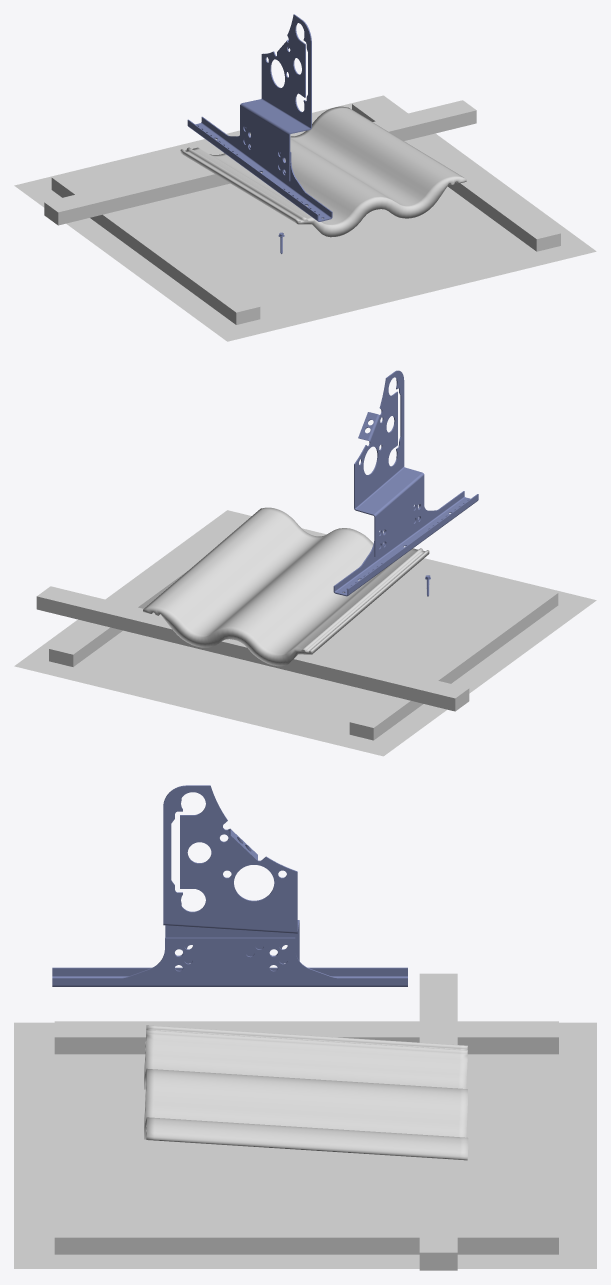
Rendered from Konsol_CWL.glb.
3 renders of one model, top to bottom at view 1: azimuth 30°, elevation 25°; view 2: azimuth 150°, elevation 25°; view 3: azimuth 270°, elevation 25°, orthographic. The views are drawn at different scales.
Parts seen in each view (by area): view 1: Plane, takPanna betong, Läkt 36x48, 420073-1, Läkt 36x48.001, Läkt 36x48.002, 410003-2.008; view 2: Plane, takPanna betong, Läkt 36x48, 420073-1, Läkt 36x48.001, Läkt 36x48.002, 410003-2.008; view 3: Plane, takPanna betong, Läkt 36x48.002, 420073-1, 410003-2.008, Läkt 36x48.001, Läkt 36x48.
Boxes of the visible parts, <box> form: Plane: <box>14,95,596,341</box>; takPanna betong: <box>180,106,466,237</box>; Läkt 36x48: <box>44,100,476,225</box>; 420073-1: <box>240,14,311,181</box>; Läkt 36x48.001: <box>51,171,260,324</box>; Läkt 36x48.002: <box>352,98,560,251</box>; 410003-2.008: <box>187,116,332,221</box>; Plane: <box>14,510,596,756</box>; takPanna betong: <box>143,507,429,666</box>; Läkt 36x48: <box>36,586,469,711</box>; 420073-1: <box>354,370,424,556</box>; Läkt 36x48.001: <box>349,587,558,740</box>; Läkt 36x48.002: <box>49,514,249,666</box>; 410003-2.008: <box>333,491,478,596</box>; Plane: <box>14,1022,596,1268</box>; takPanna betong: <box>144,1025,468,1160</box>; Läkt 36x48.002: <box>54,1221,558,1254</box>; 420073-1: <box>163,785,299,967</box>; 410003-2.008: <box>52,937,407,986</box>; Läkt 36x48.001: <box>54,1021,558,1054</box>; Läkt 36x48: <box>419,973,457,1270</box>.
Size of the model in its own units: 0.8358 by 0.4609 by 0.738.
